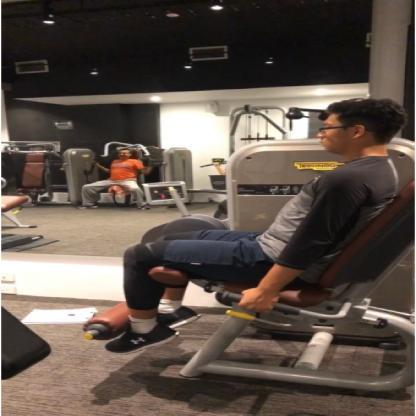leg extension: (76, 93, 416, 400)
